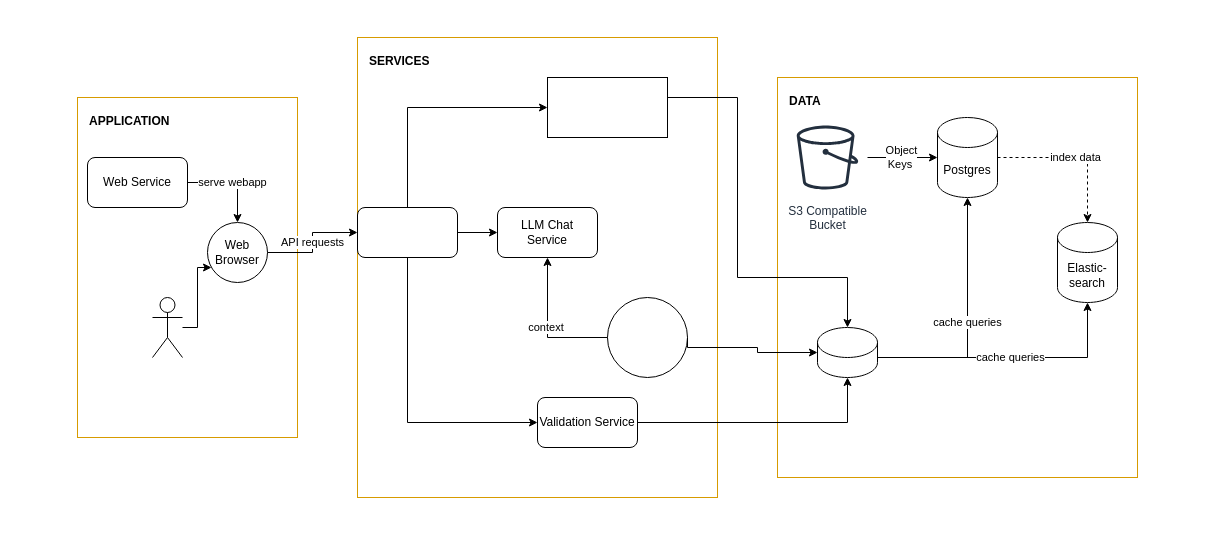
The diagram is 1214 pixels wide and 534 high, and some of its shapes have lost their labels. Each missing label, with the centre of its shape:
"API Service" belongs at pixel 407 232.
"PageIndex RAG Service" belongs at pixel 647 337.
"Parsing Service" belongs at pixel 607 107.
"Redis" belongs at pixel 847 352.
"User" belongs at pixel 167 327.
